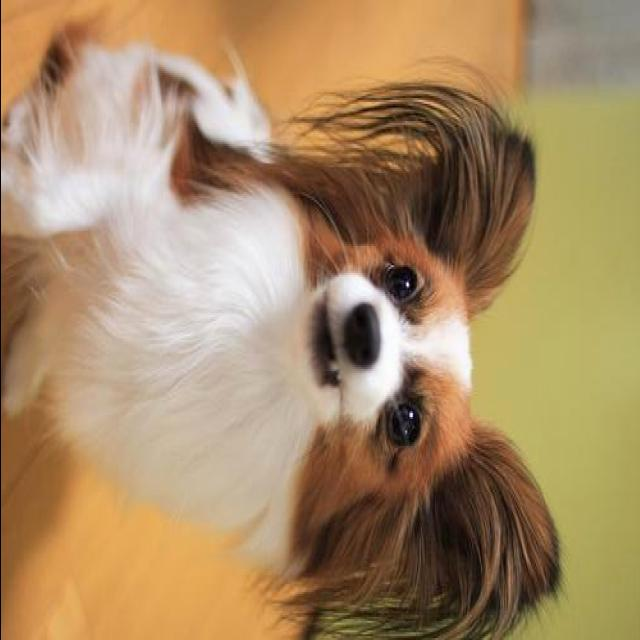papillon: (3, 33, 563, 636)
